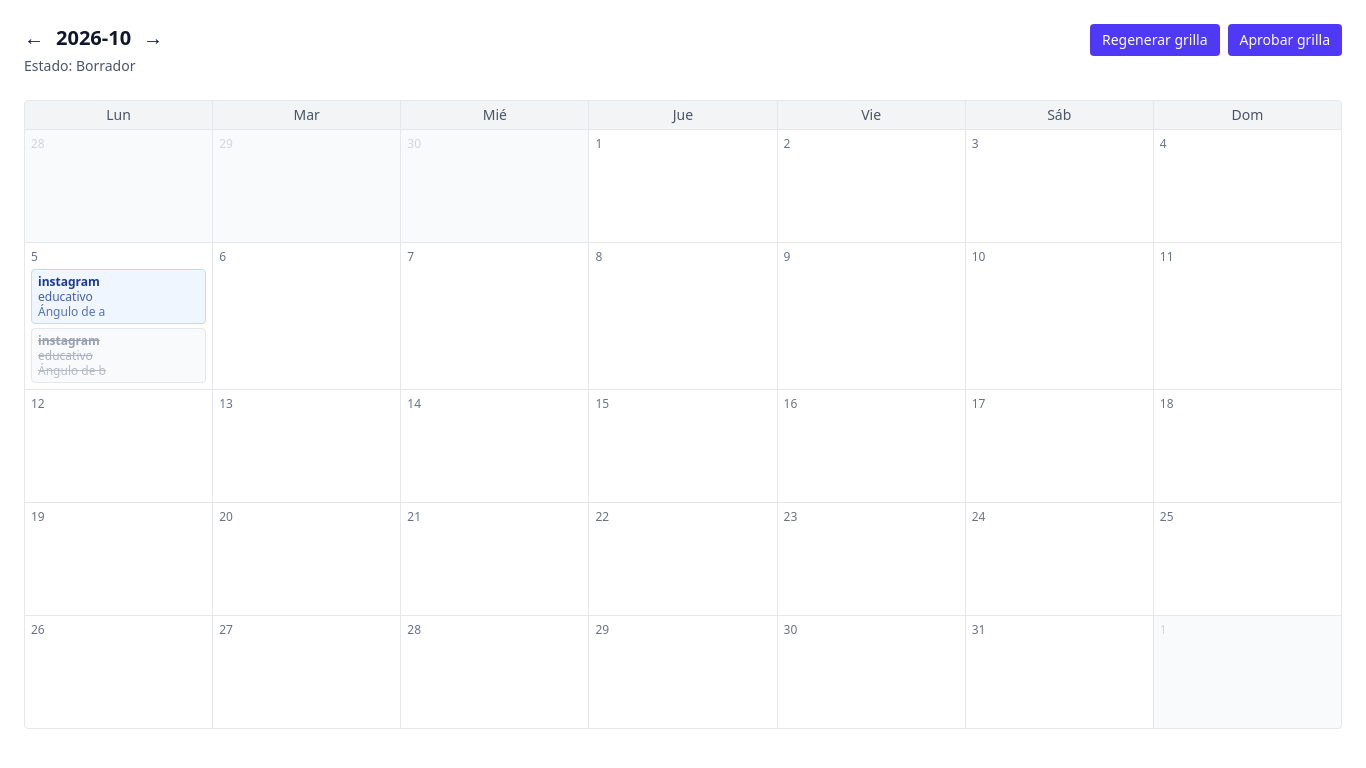
Test: la advertencia de regenerar la grilla › concuerda en singular cuando el descarte es uno solo
The width and height of the screenshot is (1366, 768).
Click the button "Regenerar grilla": click(1155, 40) 1090,24 -> 1220,56
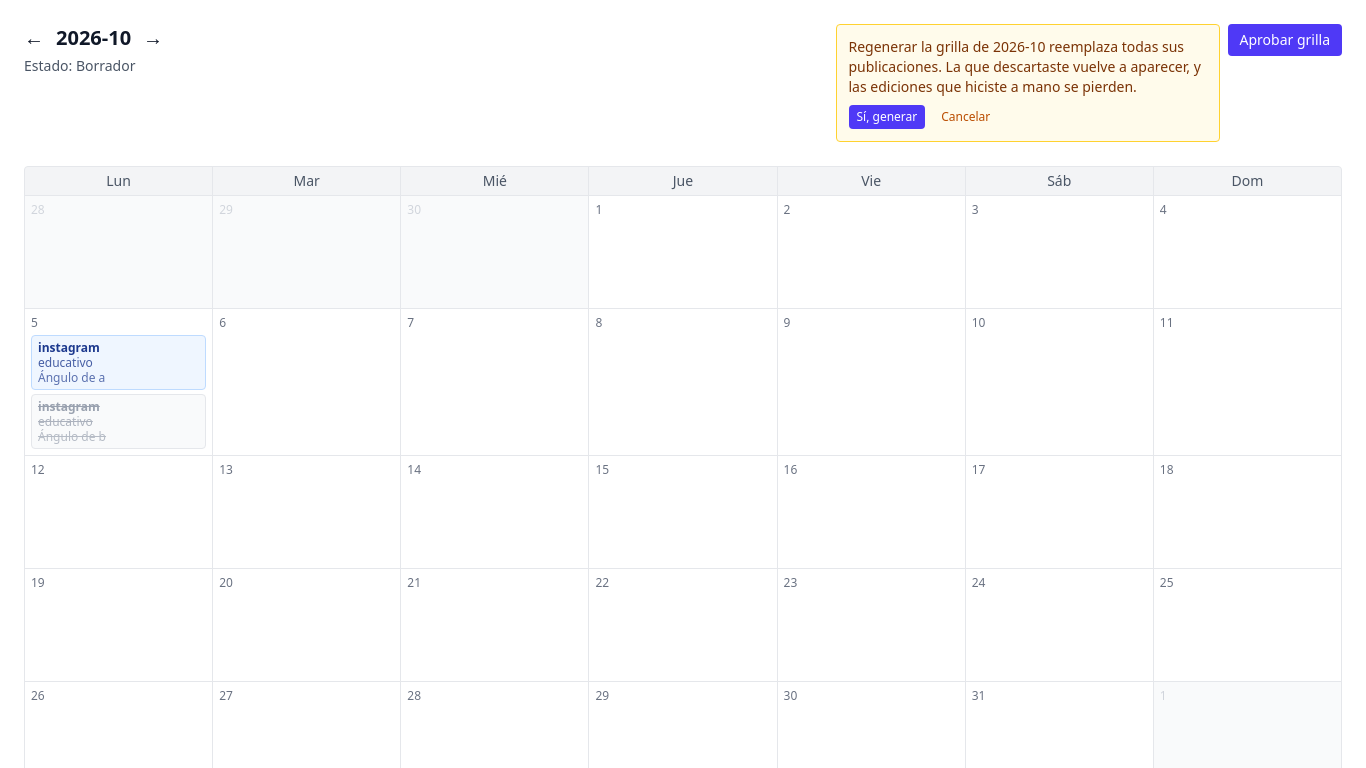
Check: the text "La que descartaste vuelve a aparecer" is shown, box 848,37 -> 1201,96
